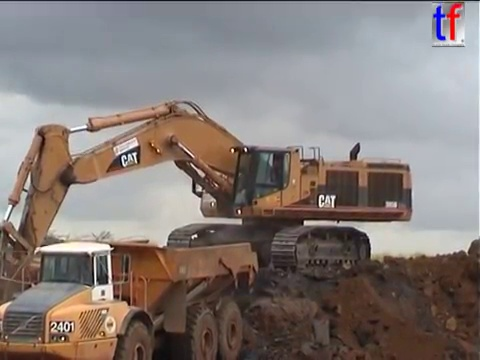excavator: (1, 95, 416, 298)
truck: (1, 236, 261, 360)
